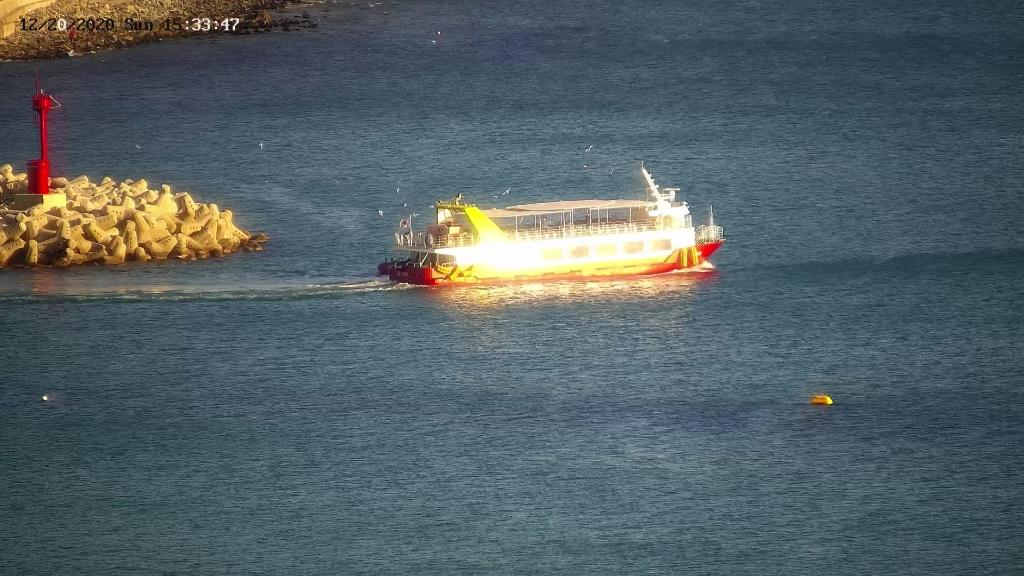PassengerShip: (368, 170, 732, 296)
